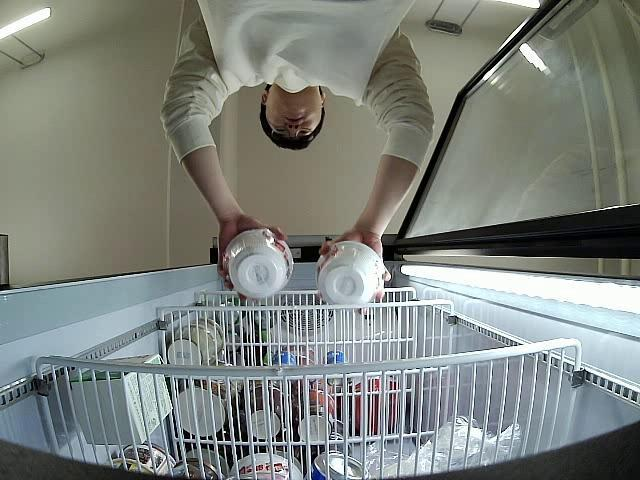09_yukGaeJang: (226, 231, 294, 300), (316, 244, 384, 308)
